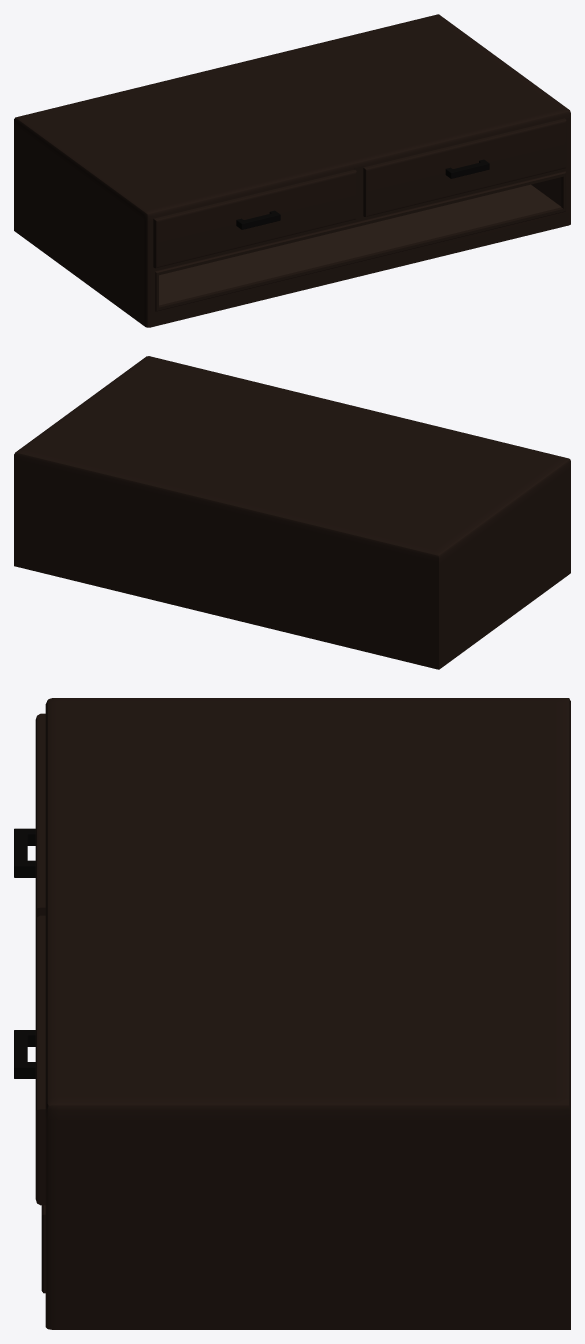
Rendered from TVStand_80s_v1.fbx.
3 renders of one model, top to bottom at view 1: azimuth 30°, elevation 25°; view 2: azimuth 150°, elevation 25°; view 3: azimuth 270°, elevation 25°, orthographic. The views are drawn at different scales.
Parts seen in each view (by area): view 1: polySurface2, polySurface5, polySurface6, polySurface3, polySurface7, polySurface4, polySurface1; view 2: polySurface2; view 3: polySurface2, polySurface6, polySurface5, polySurface7, polySurface4.
Boxes of the visible parts, <box> form: polySurface2: <box>14,14,570,327</box>; polySurface5: <box>153,169,356,268</box>; polySurface6: <box>363,118,566,216</box>; polySurface3: <box>155,171,565,311</box>; polySurface7: <box>236,210,280,229</box>; polySurface4: <box>445,159,489,178</box>; polySurface1: <box>354,166,364,219</box>; polySurface2: <box>14,356,570,669</box>; polySurface2: <box>45,698,570,1329</box>; polySurface6: <box>35,915,45,1205</box>; polySurface5: <box>35,713,45,920</box>; polySurface7: <box>14,828,35,877</box>; polySurface4: <box>14,1030,35,1078</box>.
Bounding box in the file's own units: 17.5 × 4.5 × 10.08.
